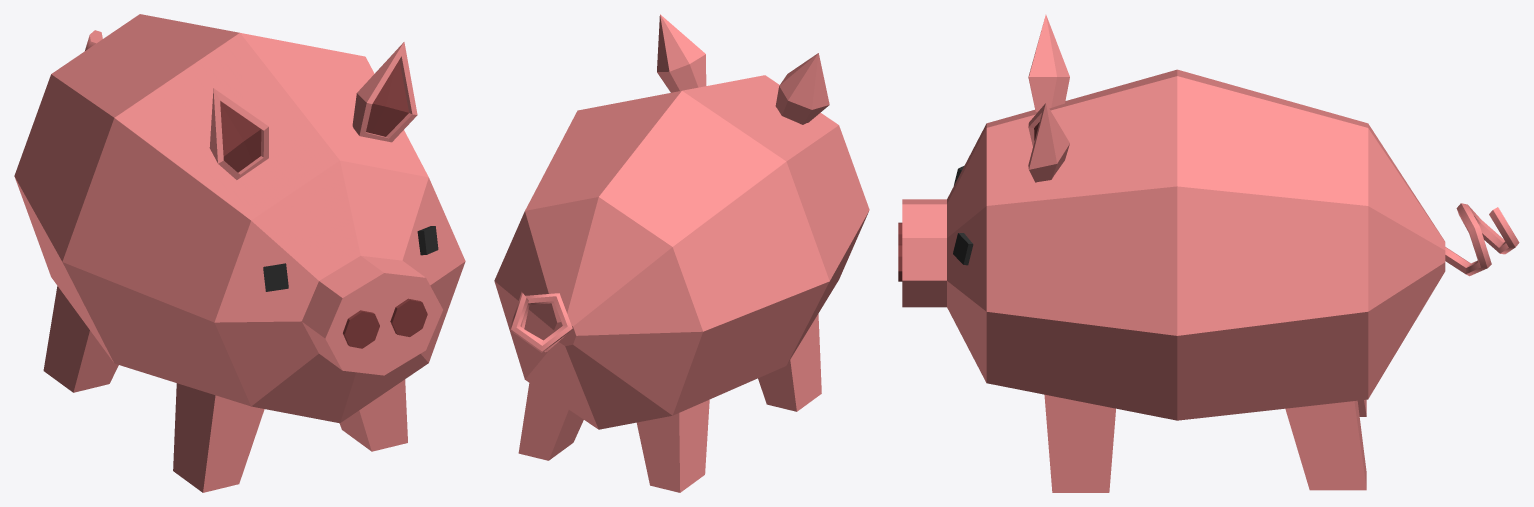
File: pig.fbx
3 renders of one model, left to right at view 1: azimuth 30°, elevation 25°; view 2: azimuth 150°, elevation 25°; view 3: azimuth 270°, elevation 25°, orthographic. The views are drawn at different scales.
Visible parts, largest first — view 1: pig; view 2: pig; view 3: pig.
Part boxes in pixels (x1,y1,x2,y2): pig: (14, 14, 465, 492); pig: (494, 14, 869, 492); pig: (898, 14, 1519, 492).
Bounding box in the file's own units: 24.8 × 39.38 × 27.07.
